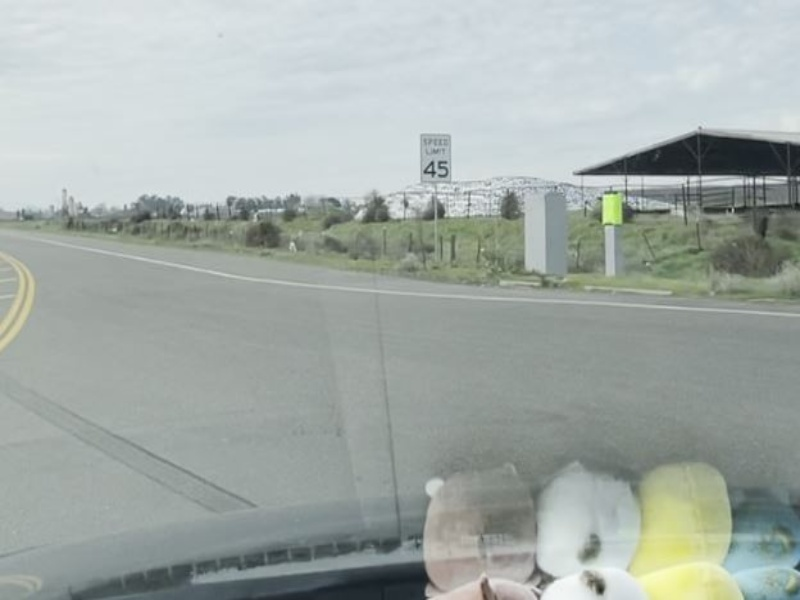speed limit sign: (417, 133, 453, 185)
